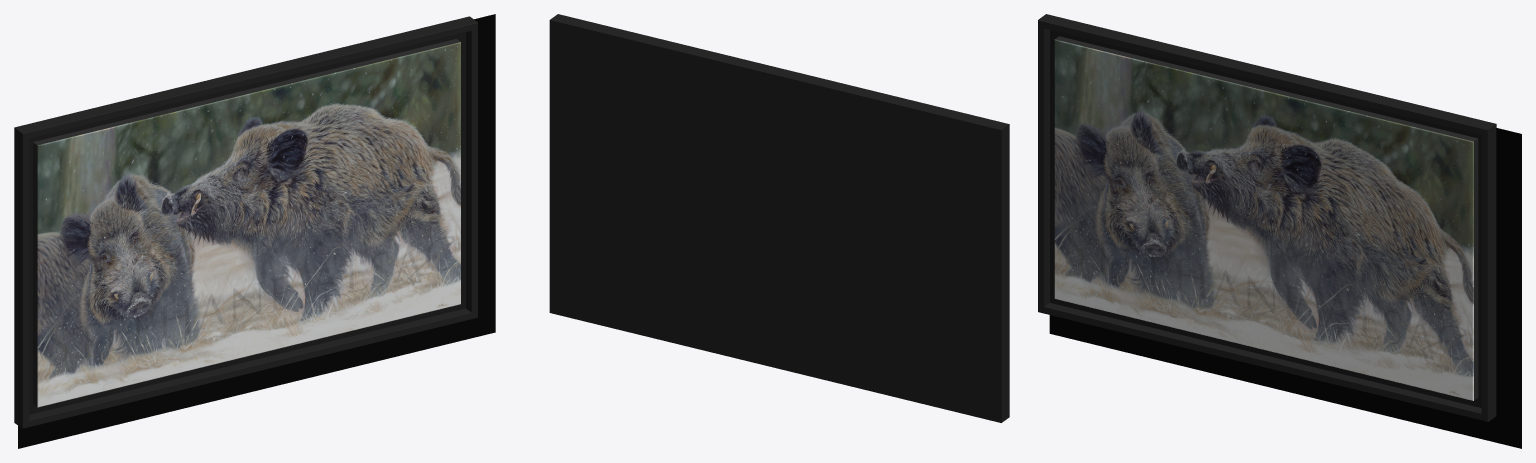
The model's file is tableau-peinture-sangliers-neige-grand-e08929a3.glb.
3 views of the same model, side by side, from view 1: azimuth 30°, elevation 25°; view 2: azimuth 150°, elevation 25°; view 3: azimuth 330°, elevation 25° (orthographic).
Parts seen in each view (by area): view 1: Painting; view 2: Painting; view 3: Painting.
Part boxes in pixels (box(x1,y1,x2,y2)): Painting: box(14, 14, 495, 448); Painting: box(549, 14, 1009, 422); Painting: box(1038, 14, 1521, 448).
Bounding box in the file's own units: 1.31 × 0.836 × 0.04.
5 materials, 3 textured.
